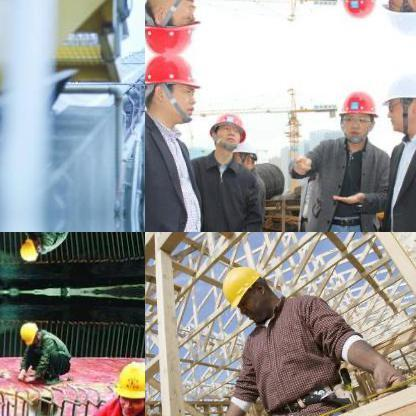Helmet: (214, 261, 278, 321), (145, 53, 199, 123), (145, 0, 200, 54), (379, 72, 415, 132), (336, 89, 378, 140), (110, 356, 144, 415), (207, 109, 244, 147), (378, 0, 415, 35), (336, 0, 380, 19), (231, 140, 257, 168), (16, 318, 40, 346), (16, 234, 40, 262)
